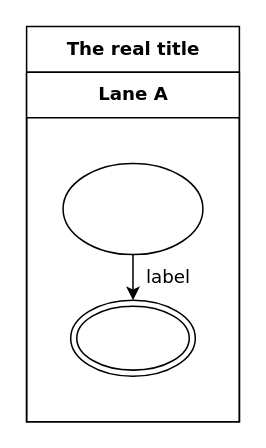
Image size: 266x448. Some labels were removed from this diagram. Each missing label, with the box of its shape:
Done: (69, 299, 195, 376)
Enter line two: (62, 162, 203, 255)
